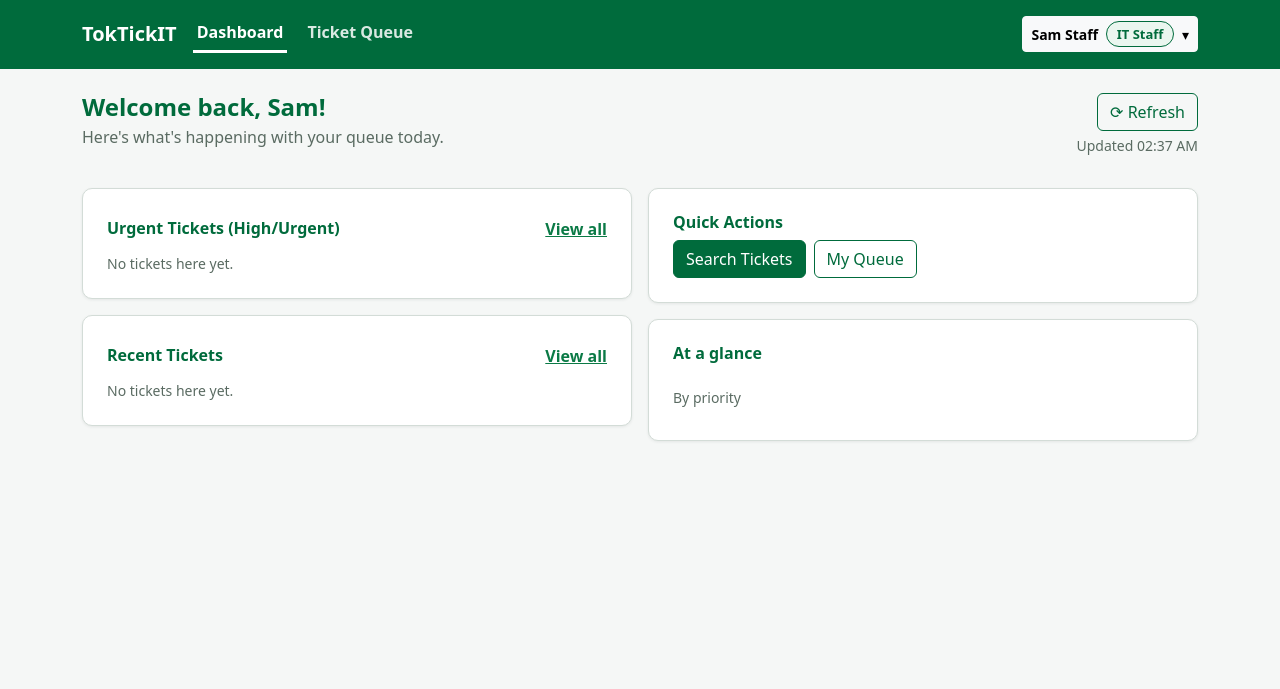
Test case: UI-27 — ownership controls (AC-34–AC-37) › shows Claim and Assign-to for an unassigned ticket
This screenshot has width=1280, height=689.
Click the button "Ticket Queue": (360, 34) [303,16,417,53]
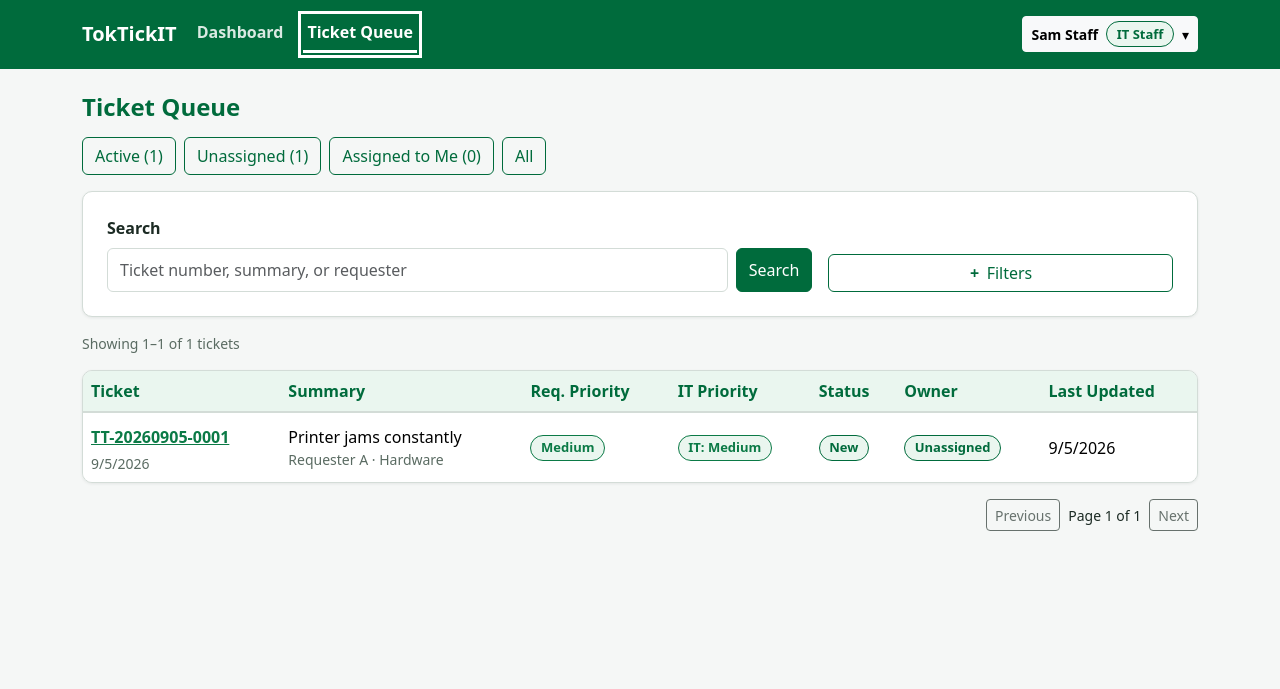
Click the button "TT-20260905-0001": (160, 437) [91,421,229,453]
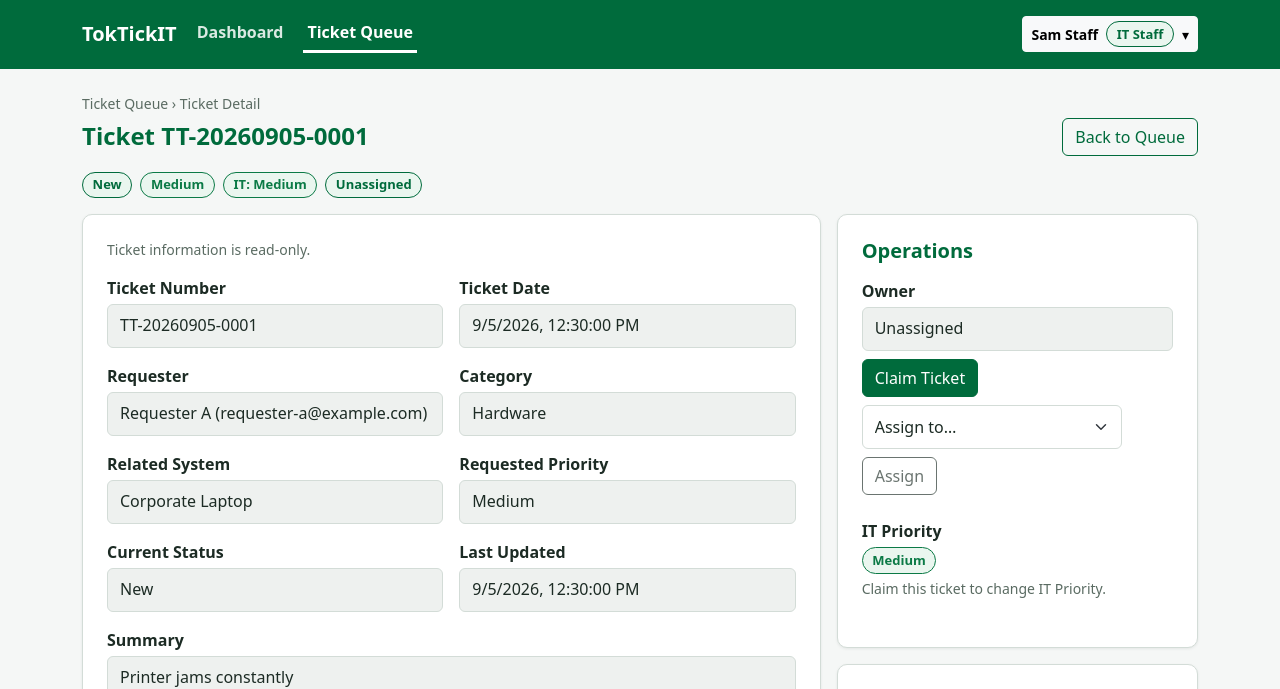
Check: the text "TT-20260905-0001" is shown, box [107,304,443,348]
Check: the button "Claim Ticket" is shown, box [862,359,978,397]
Check: the dropdown named "assign to" is shown, box [862,405,1122,449]
